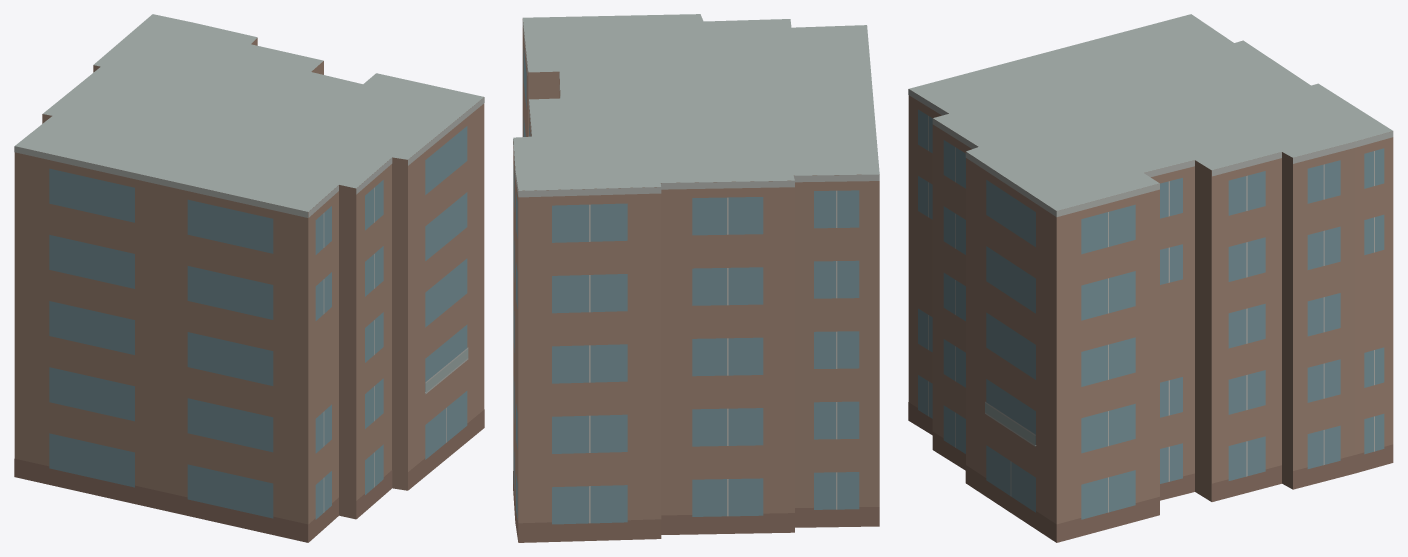
Rendered from survey-upis-32668078.glb.
The picture shows the model from 3 angles, left to right: view 1: azimuth 30°, elevation 25°; view 2: azimuth 150°, elevation 25°; view 3: azimuth 270°, elevation 25°; orthographic projection. The views are drawn at different scales.
Visible parts, largest first — view 1: survey-upis-32668078.tmp; view 2: survey-upis-32668078.tmp; view 3: survey-upis-32668078.tmp.
Boxes of the visible parts, box(x1,y1,x2,y2) form: survey-upis-32668078.tmp: box(14, 14, 484, 542); survey-upis-32668078.tmp: box(513, 14, 879, 542); survey-upis-32668078.tmp: box(908, 14, 1393, 542).
Size of the model in its own units: 16.69 by 13.1 by 17.35.
